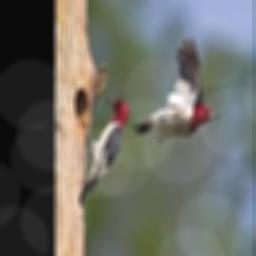Woodpecker: (131, 38, 220, 145), (79, 98, 130, 206)
